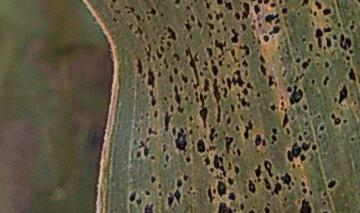tarspot: (186, 48, 200, 86), (174, 84, 184, 113), (176, 127, 188, 151), (287, 142, 302, 161), (290, 85, 303, 105), (232, 69, 246, 86), (338, 84, 349, 104), (199, 105, 208, 129), (212, 78, 221, 102), (299, 198, 313, 213), (225, 135, 234, 155), (241, 2, 251, 20), (244, 120, 253, 139), (217, 180, 227, 197), (147, 67, 155, 88), (218, 202, 233, 213), (264, 12, 279, 23), (167, 25, 177, 41), (214, 39, 227, 51), (264, 160, 273, 177), (165, 111, 172, 132), (231, 28, 240, 44), (339, 32, 347, 50), (268, 24, 281, 35), (149, 90, 157, 107), (174, 189, 182, 206), (212, 152, 220, 169), (247, 179, 256, 194), (348, 67, 357, 82), (136, 56, 143, 75), (238, 44, 250, 55), (280, 173, 292, 184), (167, 192, 175, 208), (207, 183, 213, 203), (302, 58, 312, 70), (282, 112, 289, 128), (273, 182, 282, 194), (197, 140, 205, 153), (263, 177, 271, 190), (209, 126, 215, 143), (144, 203, 154, 213), (241, 97, 251, 107), (206, 144, 217, 153), (315, 27, 324, 38), (203, 78, 210, 92), (162, 56, 169, 69), (220, 164, 227, 177), (224, 1, 233, 11), (203, 155, 211, 166), (205, 47, 213, 58), (211, 65, 219, 76), (181, 72, 188, 84), (196, 17, 203, 29), (255, 134, 262, 146), (226, 76, 232, 90), (260, 64, 267, 76), (302, 142, 311, 151), (184, 22, 192, 32), (328, 179, 336, 189), (205, 21, 215, 29), (325, 36, 332, 47), (129, 192, 137, 201), (144, 145, 150, 157), (228, 192, 236, 201), (217, 105, 221, 123), (222, 87, 228, 99), (245, 81, 254, 89), (317, 37, 323, 49), (204, 1, 212, 10), (314, 1, 323, 9), (156, 49, 163, 59), (148, 128, 158, 135), (202, 61, 209, 71), (323, 75, 330, 85), (234, 11, 241, 21), (194, 51, 200, 62), (255, 165, 261, 176), (345, 37, 351, 48), (194, 90, 199, 103), (227, 177, 235, 185), (138, 139, 145, 148), (176, 179, 183, 188), (240, 22, 247, 31), (207, 12, 214, 21), (322, 7, 331, 14), (324, 26, 333, 33), (227, 161, 233, 171), (199, 93, 204, 105), (236, 92, 242, 102), (268, 74, 273, 86), (173, 53, 180, 61), (215, 173, 223, 180), (259, 55, 266, 63), (281, 7, 288, 15), (234, 166, 240, 175), (335, 117, 341, 126), (254, 4, 260, 13), (301, 1, 310, 7), (250, 30, 256, 39), (270, 134, 277, 141), (311, 144, 318, 151), (263, 35, 270, 42), (151, 8, 157, 16), (173, 67, 179, 75), (136, 150, 142, 158), (236, 148, 242, 156), (242, 87, 248, 95), (242, 60, 248, 68), (230, 48, 236, 56), (217, 52, 225, 58), (300, 154, 306, 162), (319, 123, 325, 131), (230, 104, 235, 113), (280, 101, 285, 110), (215, 12, 220, 21), (129, 6, 135, 13), (136, 198, 142, 205), (188, 115, 194, 122), (226, 117, 232, 124), (272, 127, 278, 134), (264, 206, 270, 213), (286, 86, 293, 92), (324, 61, 330, 68), (330, 112, 336, 119), (136, 14, 141, 22), (169, 75, 174, 83), (262, 138, 267, 146), (271, 103, 276, 111), (286, 127, 291, 135), (298, 133, 303, 141), (309, 43, 314, 51), (127, 23, 133, 29), (165, 153, 169, 162), (170, 104, 174, 113), (220, 156, 224, 165), (295, 57, 301, 63), (315, 52, 321, 58), (349, 25, 355, 31), (114, 9, 121, 14), (138, 28, 143, 35), (160, 45, 165, 52), (151, 176, 156, 183), (244, 69, 249, 76), (308, 189, 313, 196), (295, 76, 300, 83), (300, 72, 305, 79), (208, 31, 213, 38), (332, 34, 337, 41), (270, 2, 277, 7), (148, 43, 152, 51), (191, 14, 195, 22), (240, 202, 244, 210), (221, 77, 225, 85), (240, 114, 244, 122), (321, 209, 329, 213), (216, 1, 224, 5), (152, 39, 157, 45), (167, 41, 172, 47), (154, 111, 159, 117), (186, 157, 191, 163), (145, 137, 151, 142), (183, 175, 188, 181), (193, 83, 198, 89), (235, 125, 240, 131), (210, 59, 215, 65), (218, 60, 223, 66), (234, 57, 239, 63), (303, 104, 308, 110), (311, 79, 316, 85), (301, 181, 306, 187), (302, 187, 307, 193), (350, 136, 355, 142), (275, 19, 281, 24), (258, 22, 263, 28), (313, 11, 318, 17), (337, 22, 342, 28), (331, 49, 336, 55), (282, 202, 287, 208), (174, 1, 181, 5), (142, 72, 146, 79), (158, 71, 162, 78), (248, 209, 255, 213), (282, 70, 286, 77), (274, 80, 278, 87), (305, 120, 309, 127), (220, 11, 224, 18), (302, 36, 306, 43), (309, 7, 313, 14), (163, 143, 166, 152), (261, 1, 270, 4), (186, 6, 191, 11), (133, 139, 138, 144), (189, 129, 194, 134), (140, 115, 145, 120), (199, 71, 204, 76), (226, 63, 231, 68), (222, 130, 227, 135), (257, 39, 262, 44), (275, 175, 280, 180), (287, 184, 292, 189), (283, 196, 288, 201), (217, 28, 222, 33), (223, 26, 228, 31), (251, 24, 256, 29), (203, 133, 207, 139), (213, 188, 217, 194), (233, 207, 237, 213), (244, 194, 248, 200), (215, 132, 219, 138), (257, 177, 261, 183), (343, 118, 347, 124), (304, 130, 308, 136), (323, 45, 327, 51), (280, 57, 284, 63), (265, 202, 271, 206), (285, 50, 289, 56), (289, 63, 293, 69), (113, 18, 118, 22), (145, 35, 149, 40), (147, 51, 151, 56), (152, 55, 156, 60), (185, 96, 189, 101), (146, 190, 150, 195), (151, 155, 155, 160), (158, 191, 162, 196), (137, 128, 141, 133), (164, 96, 168, 101), (196, 124, 200, 129), (237, 103, 241, 108), (256, 92, 260, 97), (237, 63, 242, 67), (284, 107, 289, 111), (279, 41, 284, 45), (334, 97, 338, 102), (346, 56, 350, 61), (318, 134, 322, 139), (353, 100, 357, 105), (222, 20, 226, 25), (349, 50, 354, 54), (278, 1, 283, 5), (311, 21, 315, 26), (295, 47, 299, 52), (325, 19, 330, 23), (297, 163, 301, 168), (316, 61, 320, 66), (152, 25, 157, 29), (180, 85, 183, 91), (234, 142, 237, 148), (161, 36, 165, 40), (160, 40, 164, 44), (189, 35, 193, 39), (134, 123, 138, 127), (210, 168, 214, 172), (190, 100, 194, 104), (191, 140, 195, 144), (159, 63, 163, 67), (280, 95, 284, 99), (292, 163, 296, 167), (323, 201, 327, 205), (323, 192, 327, 196), (249, 113, 253, 117), (297, 12, 301, 16), (256, 148, 260, 152), (148, 16, 151, 21), (158, 183, 161, 188), (257, 48, 260, 53), (257, 1, 262, 4), (352, 20, 355, 25), (251, 41, 256, 44), (111, 1, 117, 3), (110, 5, 114, 8), (125, 6, 129, 9), (135, 30, 138, 34), (161, 13, 164, 17), (164, 26, 167, 30), (147, 57, 150, 61), (142, 91, 145, 95), (187, 19, 190, 23), (186, 14, 190, 17), (193, 191, 196, 195), (146, 112, 149, 116), (189, 92, 192, 96), (170, 94, 173, 98), (204, 95, 207, 99), (271, 141, 275, 144), (225, 111, 229, 114), (291, 116, 294, 120), (243, 180, 247, 183), (193, 1, 198, 3), (128, 11, 131, 14), (147, 11, 150, 14), (145, 47, 148, 50), (164, 164, 167, 167), (190, 187, 193, 190), (187, 191, 190, 194), (242, 55, 245, 58), (277, 46, 280, 49), (143, 19, 145, 23), (191, 3, 193, 6), (318, 115, 320, 118)
